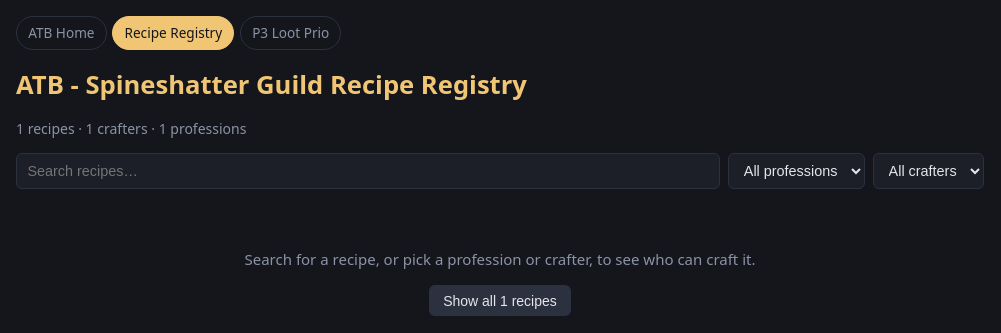
Test: App › adds no brackets for a crafter with no known alts
What coordinates should you click on to do the following:
click the button "Show all 1 recipes"
I would click on:
 (500, 301)
Its box is [429, 286, 571, 316].
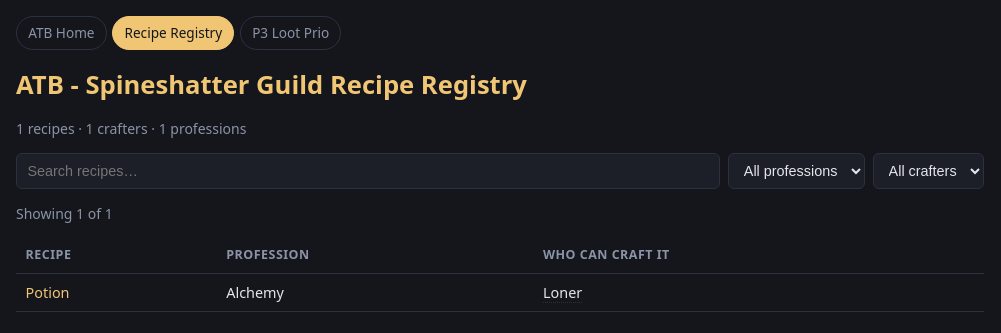
Check: the link "Loner" is shown, box [543, 283, 582, 303]
